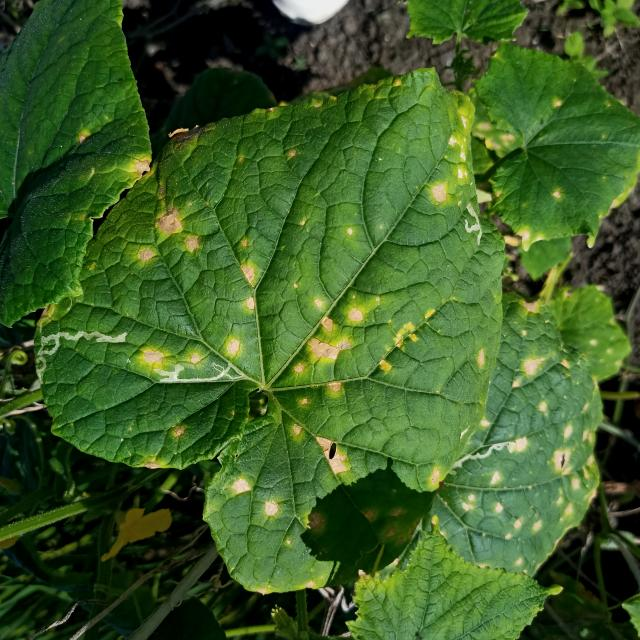disease_cucumber: (124, 117, 495, 551), (451, 341, 604, 574)
